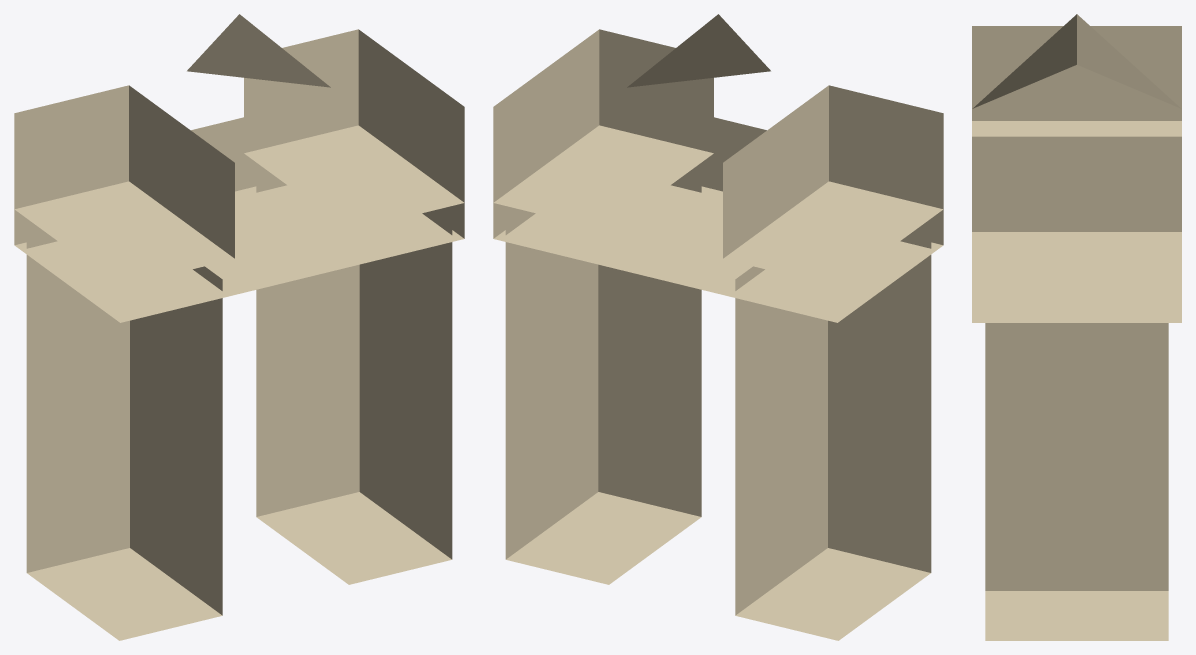
The model's file is bali-pura.glb.
The picture shows the model from 3 angles, left to right: view 1: azimuth 30°, elevation 25°; view 2: azimuth 150°, elevation 25°; view 3: azimuth 270°, elevation 25°; orthographic projection.
Parts seen in each view (by area): view 1: bali-pura.glb; view 2: bali-pura.glb; view 3: bali-pura.glb.
Part boxes in pixels (bbox=[...]): bali-pura.glb: bbox=[14, 14, 464, 640]; bali-pura.glb: bbox=[493, 14, 943, 640]; bali-pura.glb: bbox=[972, 14, 1181, 640].
Size of the model in its own units: 1.5 by 2.3 by 0.8.
